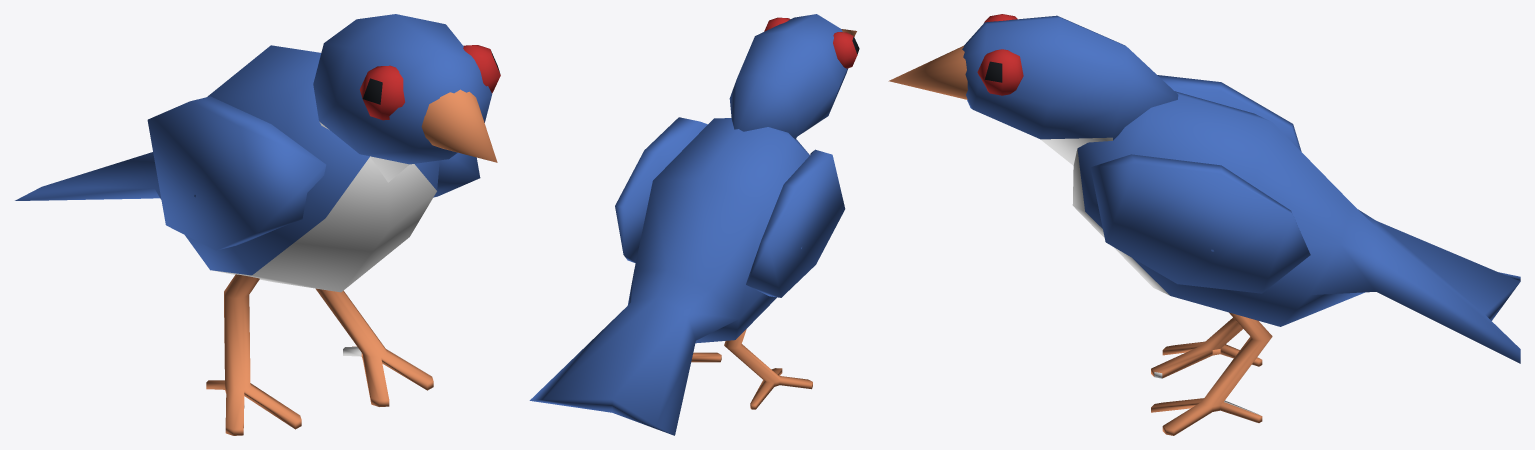
Rendered from BirdDefault.fbx.
3 views of the same model, side by side, from view 1: azimuth 30°, elevation 25°; view 2: azimuth 150°, elevation 25°; view 3: azimuth 270°, elevation 25° (orthographic). The views are drawn at different scales.
Visible parts, largest first — view 1: birdFeet.002; view 2: birdFeet.002; view 3: birdFeet.002.
Boxes of the visible parts, x1=… form: birdFeet.002: x1=15, y1=14, x2=500, y2=435; birdFeet.002: x1=529, y1=14, x2=859, y2=435; birdFeet.002: x1=888, y1=14, x2=1520, y2=435.
Size of the model in its own units: 0.0661 by 0.1255 by 0.1917.
